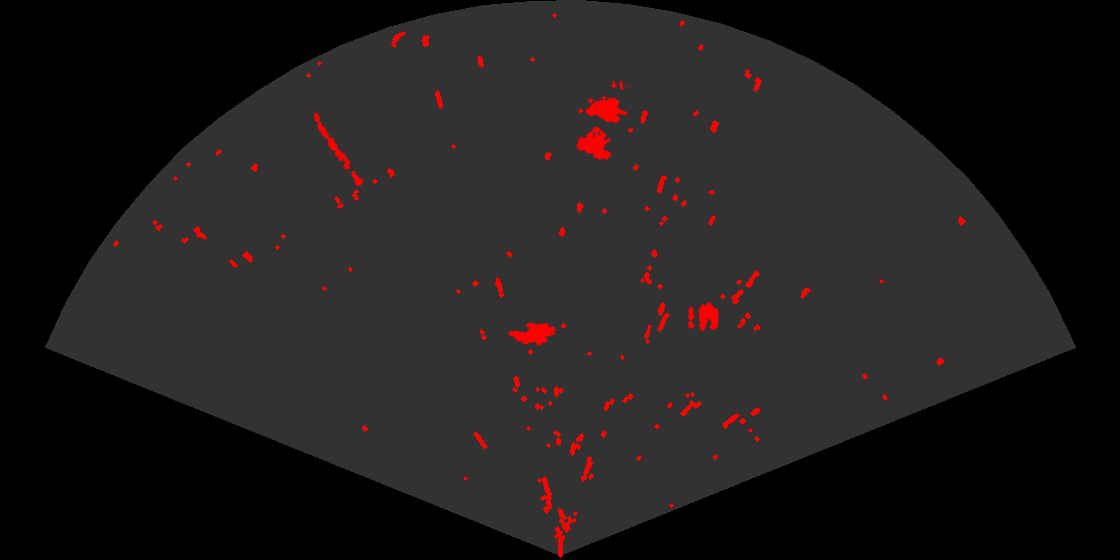AUV: (506, 321, 558, 347)
ball: (687, 301, 720, 333)
cage: (575, 81, 633, 162)
chain: (312, 111, 370, 196)
